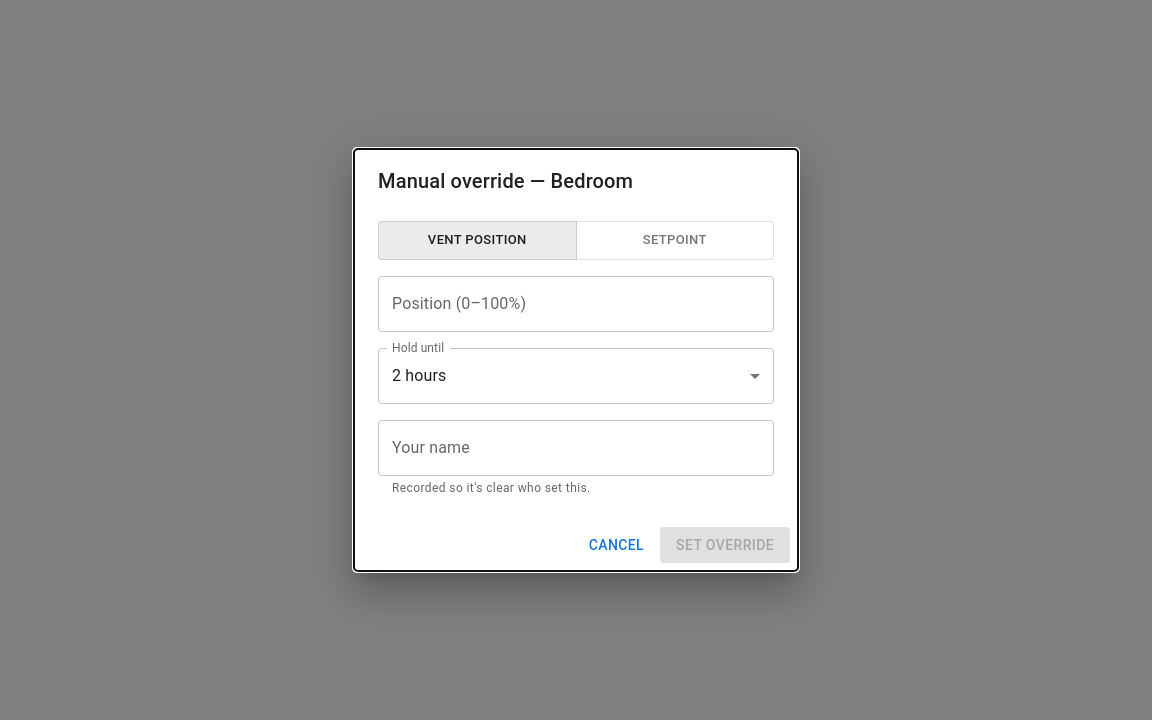
Scenario: ZoneOverrideDialog › Set override is disabled until both a value and an actor name are entered
Expected: the button "Set override" is disabled, x1=660 y1=527 x2=790 y2=563
In the field labelled "Your name": (576, 448) x1=378 y1=420 x2=774 y2=476, type "Martin"
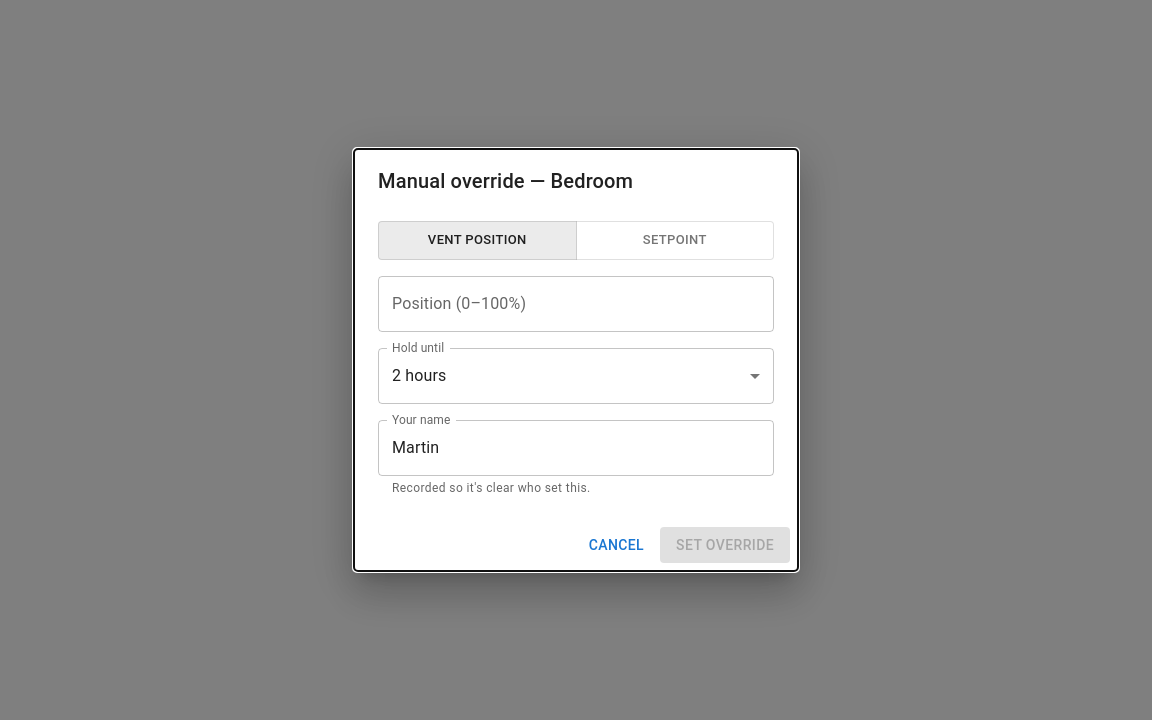
Expected: the button "Set override" is disabled, x1=660 y1=527 x2=790 y2=563
In the number field labelled "Position (0–100%)": (576, 304) x1=378 y1=276 x2=774 y2=332, type "30"
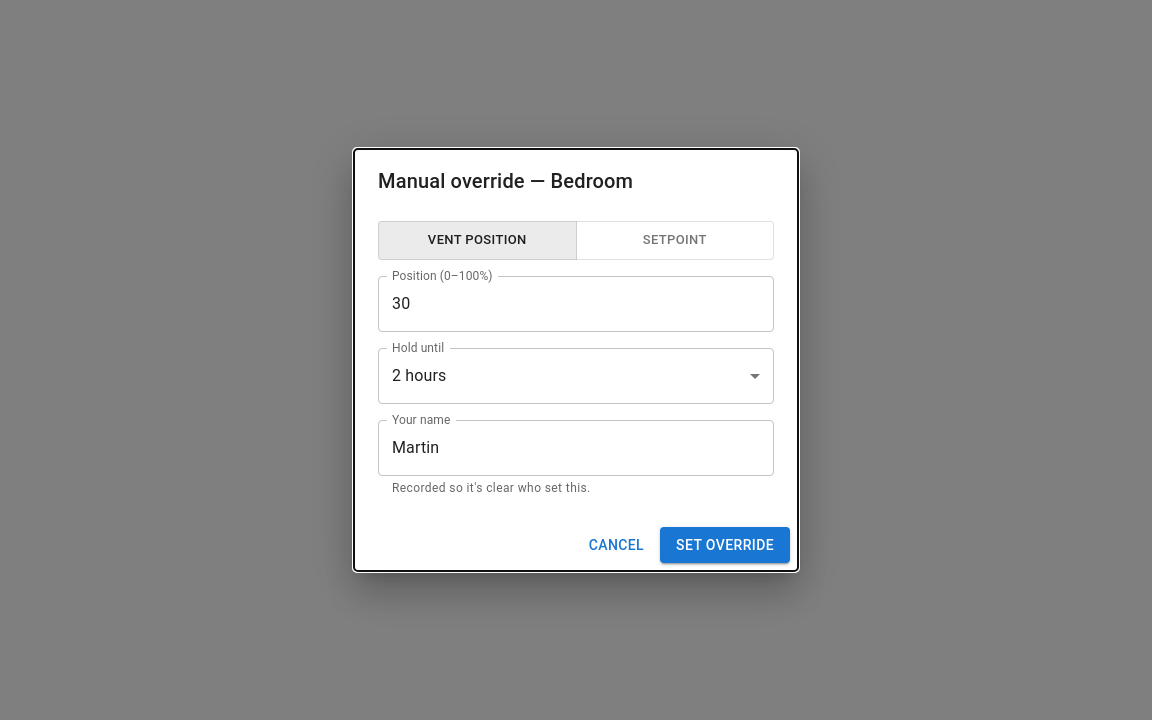
Expected: the button "Set override" is enabled, x1=660 y1=527 x2=790 y2=563
